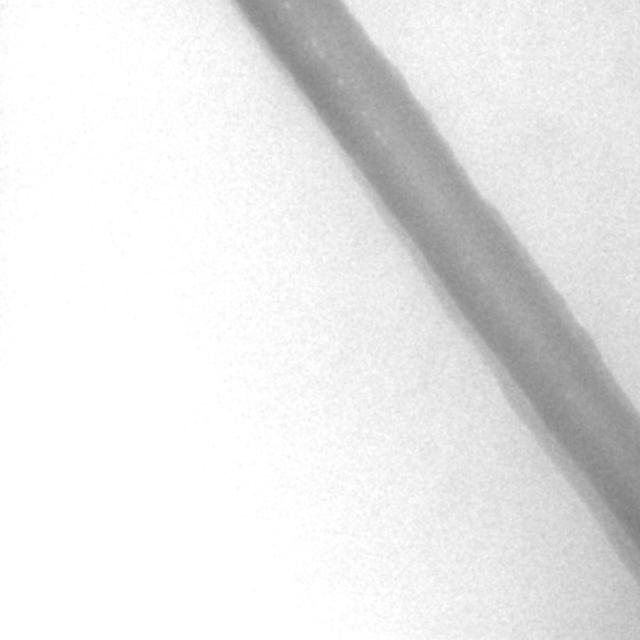air hole: (335, 74, 344, 87), (373, 125, 381, 138), (317, 47, 325, 59)
